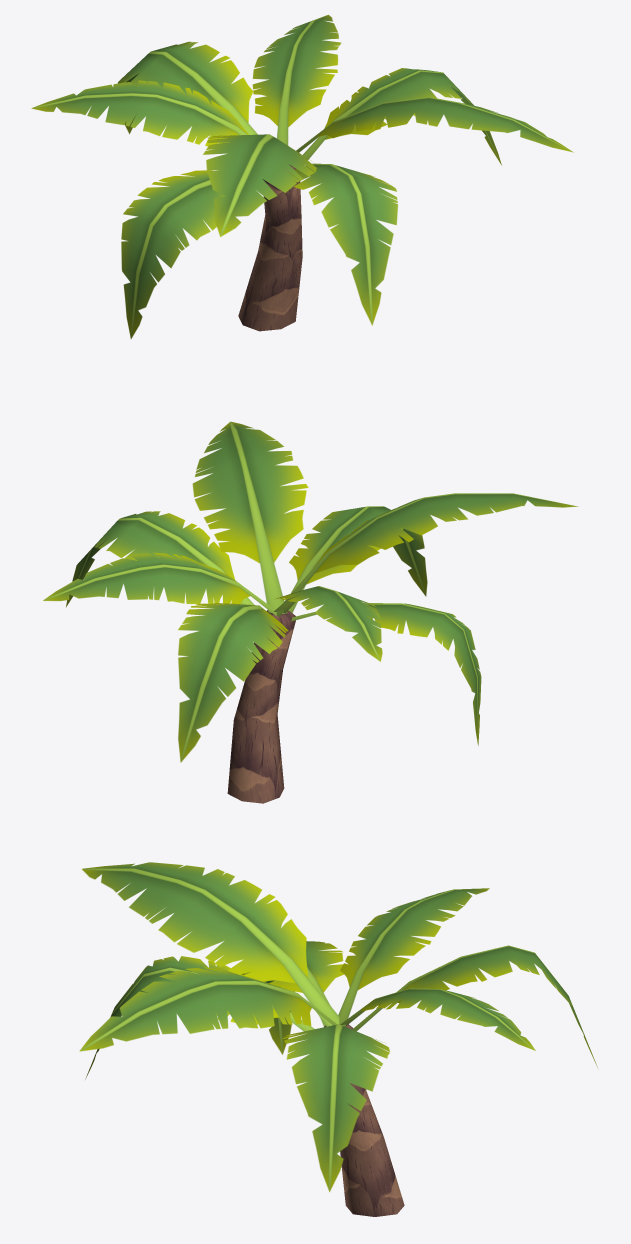
The model's file is palm_tree5.glb.
3 renders of one model, top to bottom at view 1: azimuth 30°, elevation 25°; view 2: azimuth 150°, elevation 25°; view 3: azimuth 270°, elevation 25°, orthographic. The views are drawn at different scales.
Parts seen in each view (by area): view 1: PalmTree_5; view 2: PalmTree_5; view 3: PalmTree_5.
Part boxes in pixels (box(x1,y1,x2,y2)): PalmTree_5: box(31, 14, 573, 339); PalmTree_5: box(43, 421, 578, 803); PalmTree_5: box(79, 862, 597, 1216).
Size of the model in its own units: 3.49 by 1.8 by 3.62.
2 materials, 2 textured.
